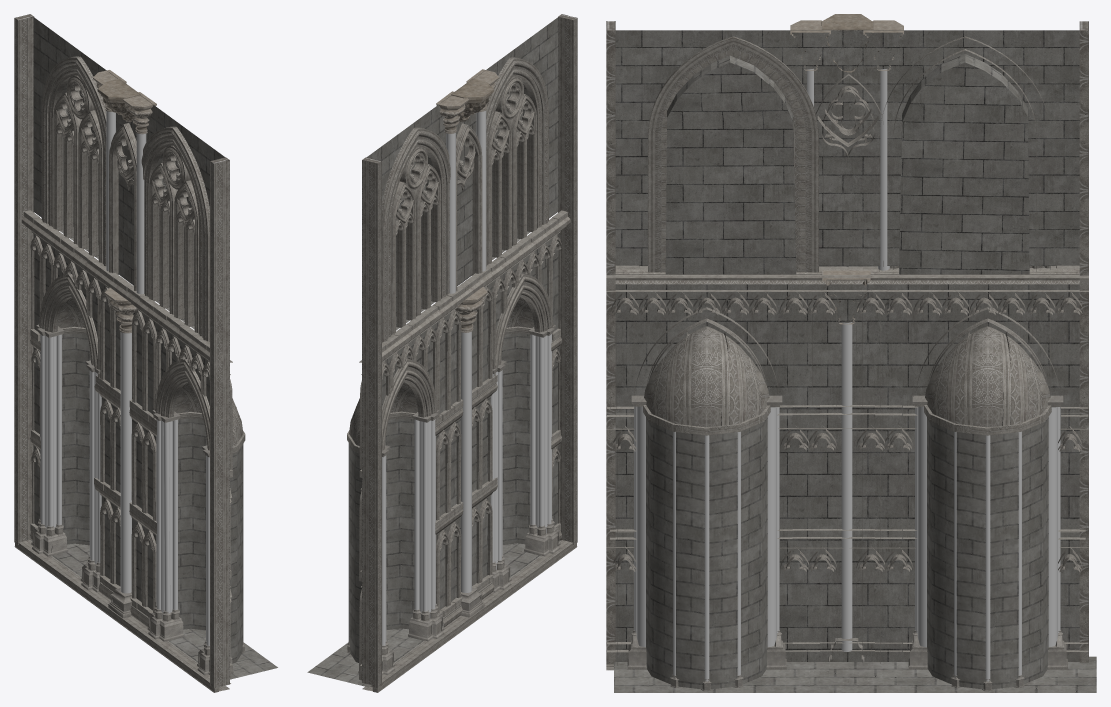
The model's file is SM_InteriorWall_A_02.fbx.
3 views of the same model, side by side, from view 1: azimuth 30°, elevation 25°; view 2: azimuth 150°, elevation 25°; view 3: azimuth 270°, elevation 25° (orthographic). The views are drawn at different scales.
Visible parts, largest first — view 1: SM_InteriorWall_A_02_LOD0; view 2: SM_InteriorWall_A_02_LOD0; view 3: SM_InteriorWall_A_02_LOD0.
Part boxes in pixels (bbox=[...]): SM_InteriorWall_A_02_LOD0: bbox=[14, 14, 277, 692]; SM_InteriorWall_A_02_LOD0: bbox=[307, 14, 577, 692]; SM_InteriorWall_A_02_LOD0: bbox=[606, 14, 1096, 692].
Size of the model in its own units: 228 by 1016 by 1464.
